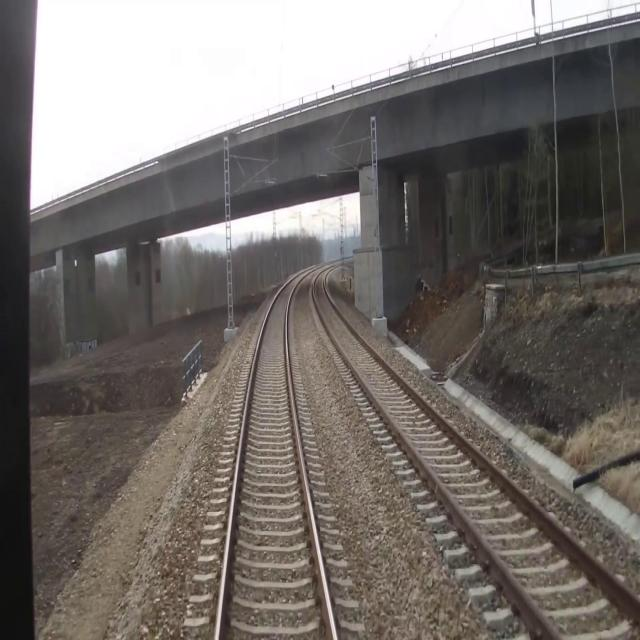rail-track: (314, 268, 640, 639), (219, 271, 333, 639)
